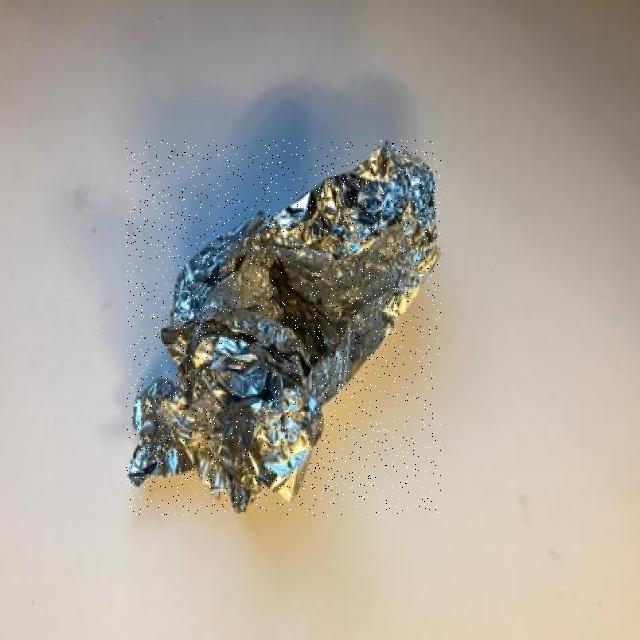metal: (127, 141, 441, 516)
